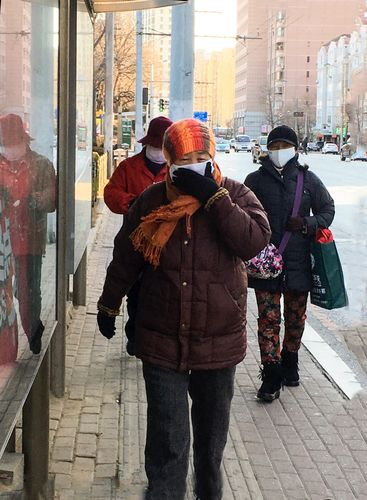mask: (265, 138, 297, 172)
